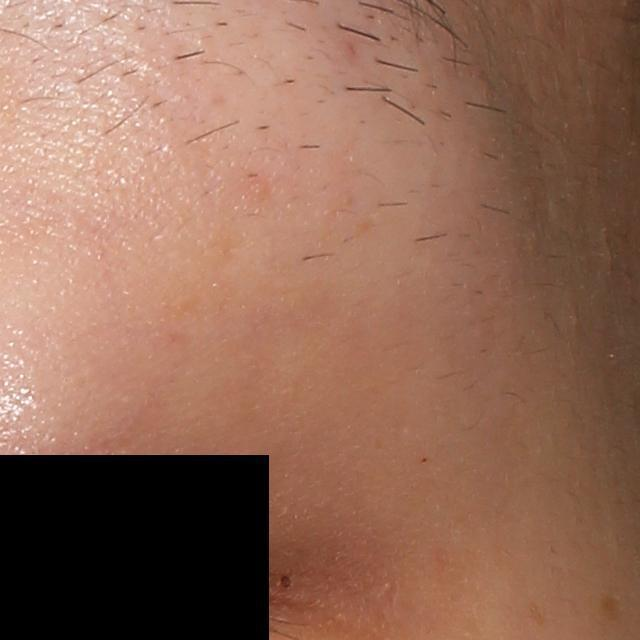melasma: (591, 591, 623, 620)
